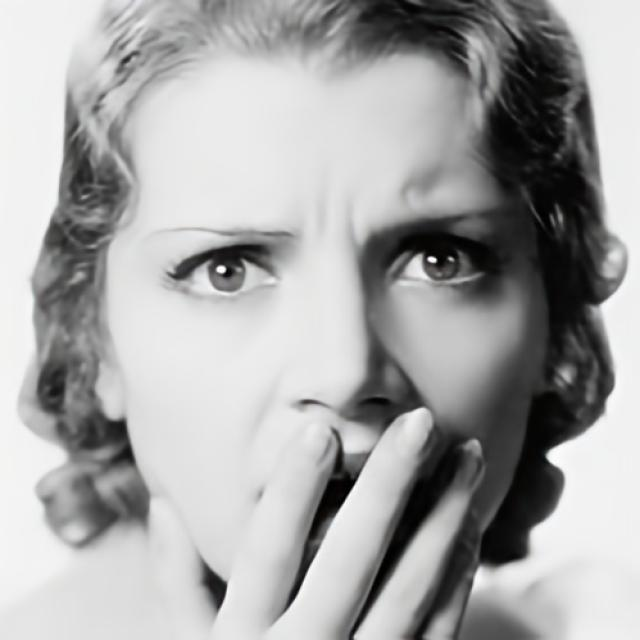fear: (109, 41, 552, 628)
